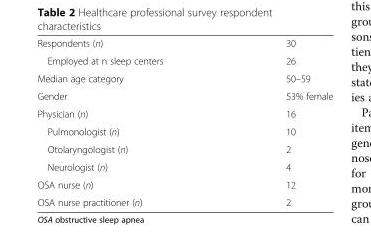table: (36, 37, 332, 207)
table column: (36, 37, 223, 207), (223, 37, 332, 207)
table row: (36, 51, 332, 69), (36, 86, 332, 104), (36, 104, 332, 122), (36, 122, 332, 140), (36, 157, 332, 175), (36, 175, 332, 193), (36, 69, 332, 86), (36, 140, 332, 157), (36, 37, 332, 51), (36, 193, 332, 207)
